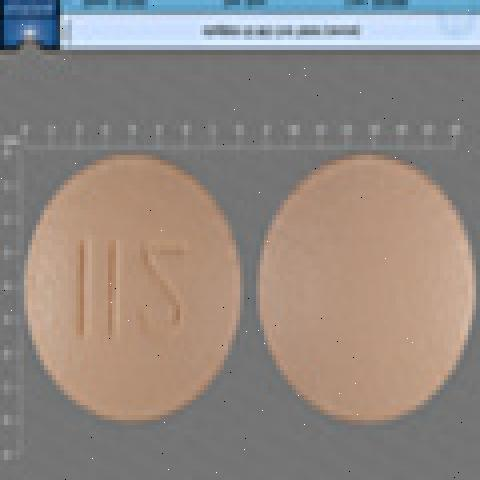Pill: (21, 124, 252, 442), (252, 137, 480, 437)
